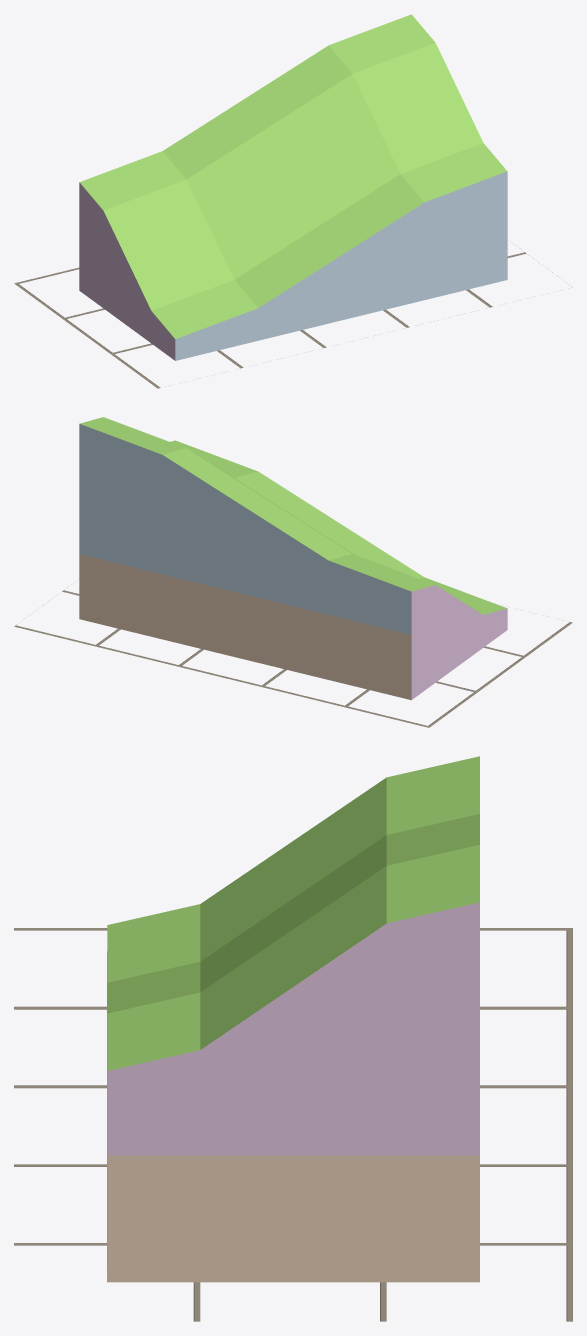
The model's file is Grass_Hill_Gentle_Overlapping_Sharp_2x4.glb.
The picture shows the model from 3 angles, top to bottom: view 1: azimuth 30°, elevation 25°; view 2: azimuth 150°, elevation 25°; view 3: azimuth 270°, elevation 25°; orthographic projection. The views are drawn at different scales.
Visible parts, largest first — view 1: Grass_Hill_Gentle_Overlapping_Sharp_2x4, Floor; view 2: Grass_Hill_Gentle_Overlapping_Sharp_2x4, Floor; view 3: Grass_Hill_Gentle_Overlapping_Sharp_2x4, Floor.
Part boxes in pixels (x1,y1,x2,y2): Grass_Hill_Gentle_Overlapping_Sharp_2x4: [79, 14, 507, 360]; Floor: [14, 252, 552, 388]; Grass_Hill_Gentle_Overlapping_Sharp_2x4: [79, 417, 507, 700]; Floor: [14, 587, 572, 727]; Grass_Hill_Gentle_Overlapping_Sharp_2x4: [107, 756, 479, 1282]; Floor: [14, 928, 572, 1321].
Size of the model in its own units: 500 by 225 by 300.
6 materials, 1 textured.
